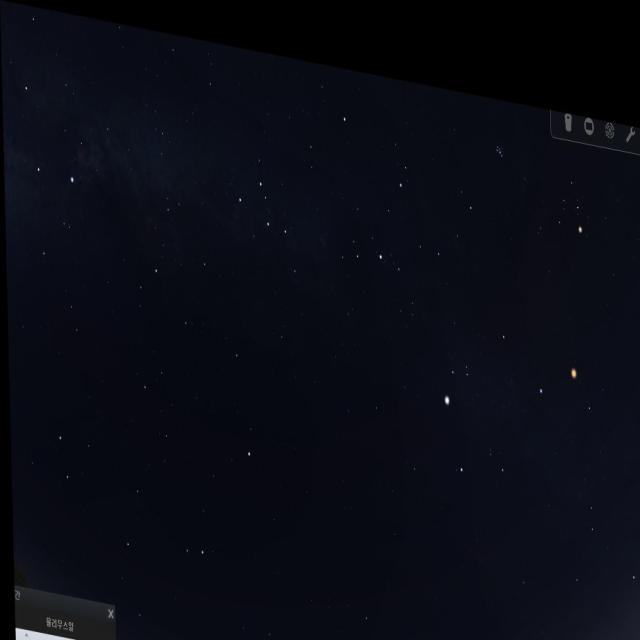cassiopeia: (226, 131, 307, 280)
pleiades: (494, 115, 508, 154)
